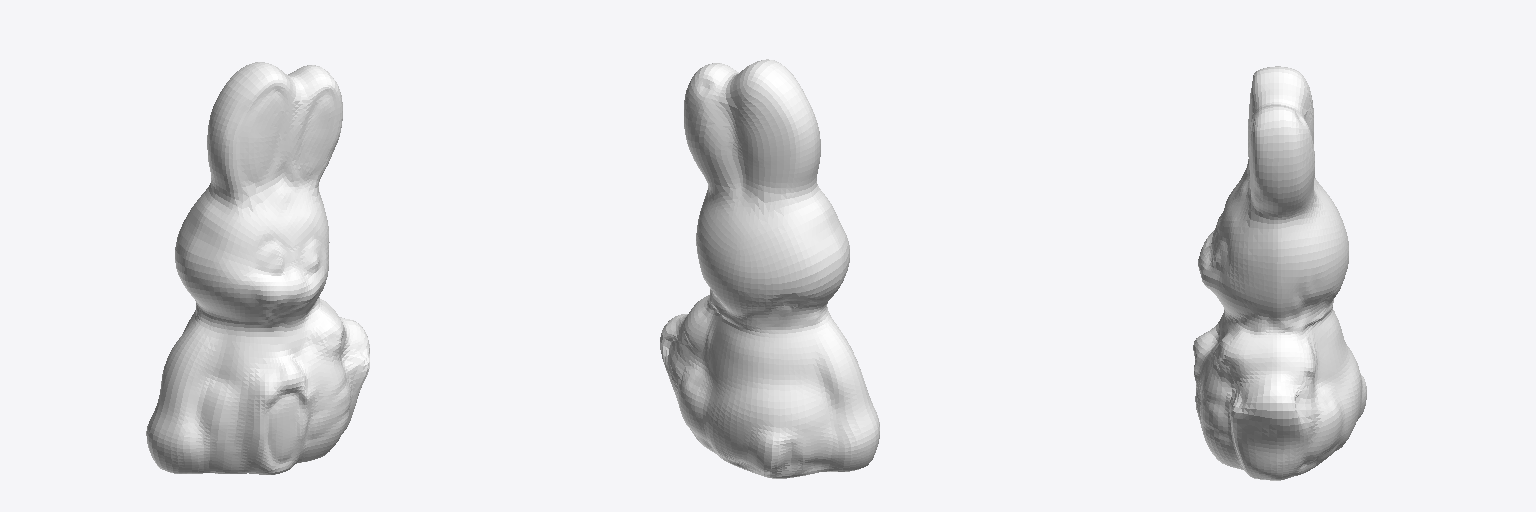
File: bunny.obj
The picture shows the model from 3 angles: view 1: azimuth 30°, elevation 25°; view 2: azimuth 150°, elevation 25°; view 3: azimuth 270°, elevation 25°; orthographic projection.
Parts seen in each view (by area): view 1: bunny.obj; view 2: bunny.obj; view 3: bunny.obj.
Boxes of the visible parts, x1,y1,x2,y2 form: bunny.obj: [146, 62, 369, 474]; bunny.obj: [660, 59, 879, 478]; bunny.obj: [1193, 66, 1366, 480].
Size of the model in its own units: 0.1185 by 0.2032 by 0.0844.